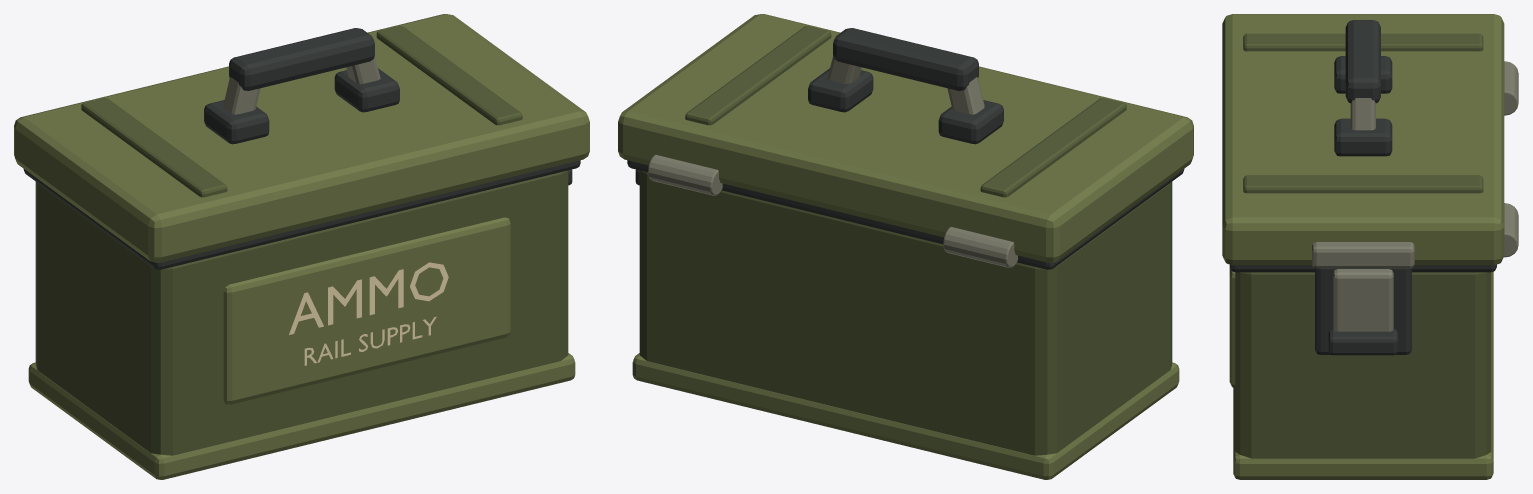
File: DeadRail_Ammo_Box.fbx
The picture shows the model from 3 angles, left to right: view 1: azimuth 30°, elevation 25°; view 2: azimuth 150°, elevation 25°; view 3: azimuth 270°, elevation 25°; orthographic projection.
Parts seen in each view (by area): view 1: DeadRail_Ammo_Box_Mesh; view 2: DeadRail_Ammo_Box_Mesh; view 3: DeadRail_Ammo_Box_Mesh.
Boxes of the visible parts, bbox=[...] form: DeadRail_Ammo_Box_Mesh: bbox=[14, 14, 589, 479]; DeadRail_Ammo_Box_Mesh: bbox=[618, 14, 1193, 479]; DeadRail_Ammo_Box_Mesh: bbox=[1222, 14, 1518, 479].
Bounding box in the file's own units: 0.473 × 0.3215 × 0.2595.
